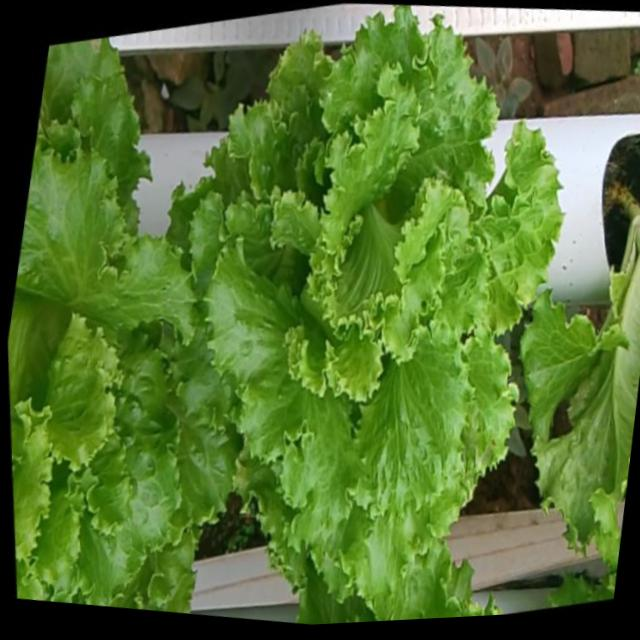Mature: (179, 4, 552, 588), (8, 127, 226, 603)
